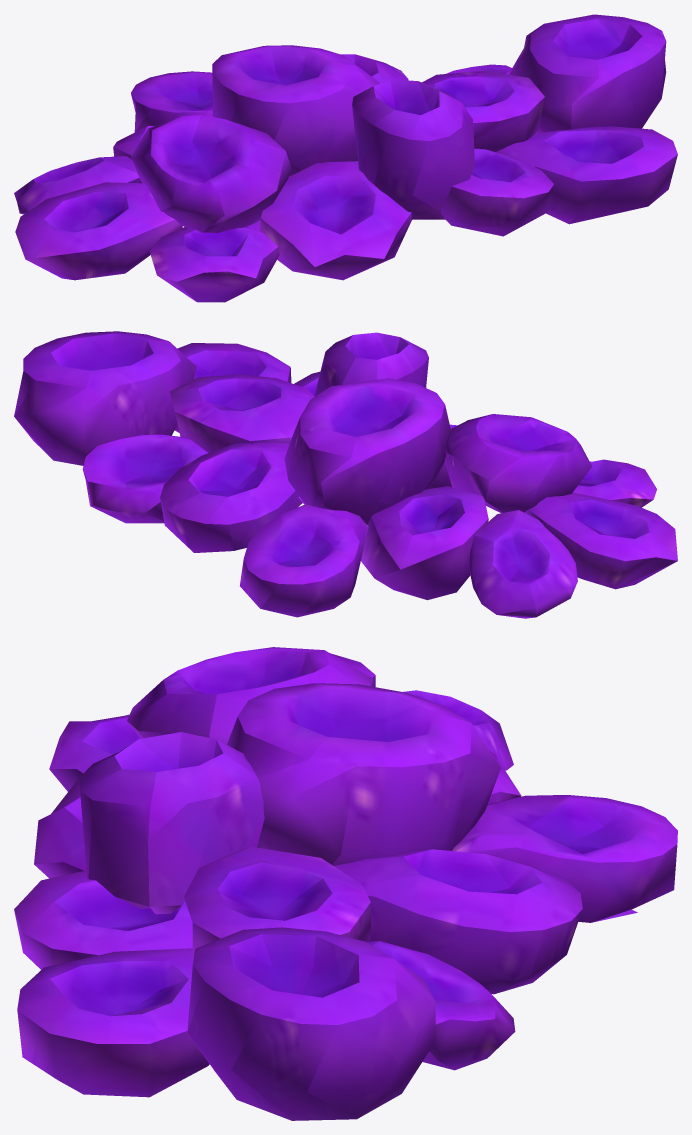
The model's file is kelp 2.obj.
3 views of the same model, one above another, from view 1: azimuth 30°, elevation 25°; view 2: azimuth 150°, elevation 25°; view 3: azimuth 270°, elevation 25° (orthographic). The views are drawn at different scales.
Visible parts, largest first — view 1: node_id73; view 2: node_id73; view 3: node_id73.
Part boxes in pixels (x1,y1,x2,y2): node_id73: (14, 14, 677, 302); node_id73: (14, 331, 677, 618); node_id73: (14, 647, 677, 1120).
Bounding box in the file's own units: 5.58 × 1.2 × 3.45.
